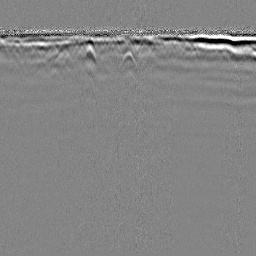cavity: (118, 48, 137, 67)
